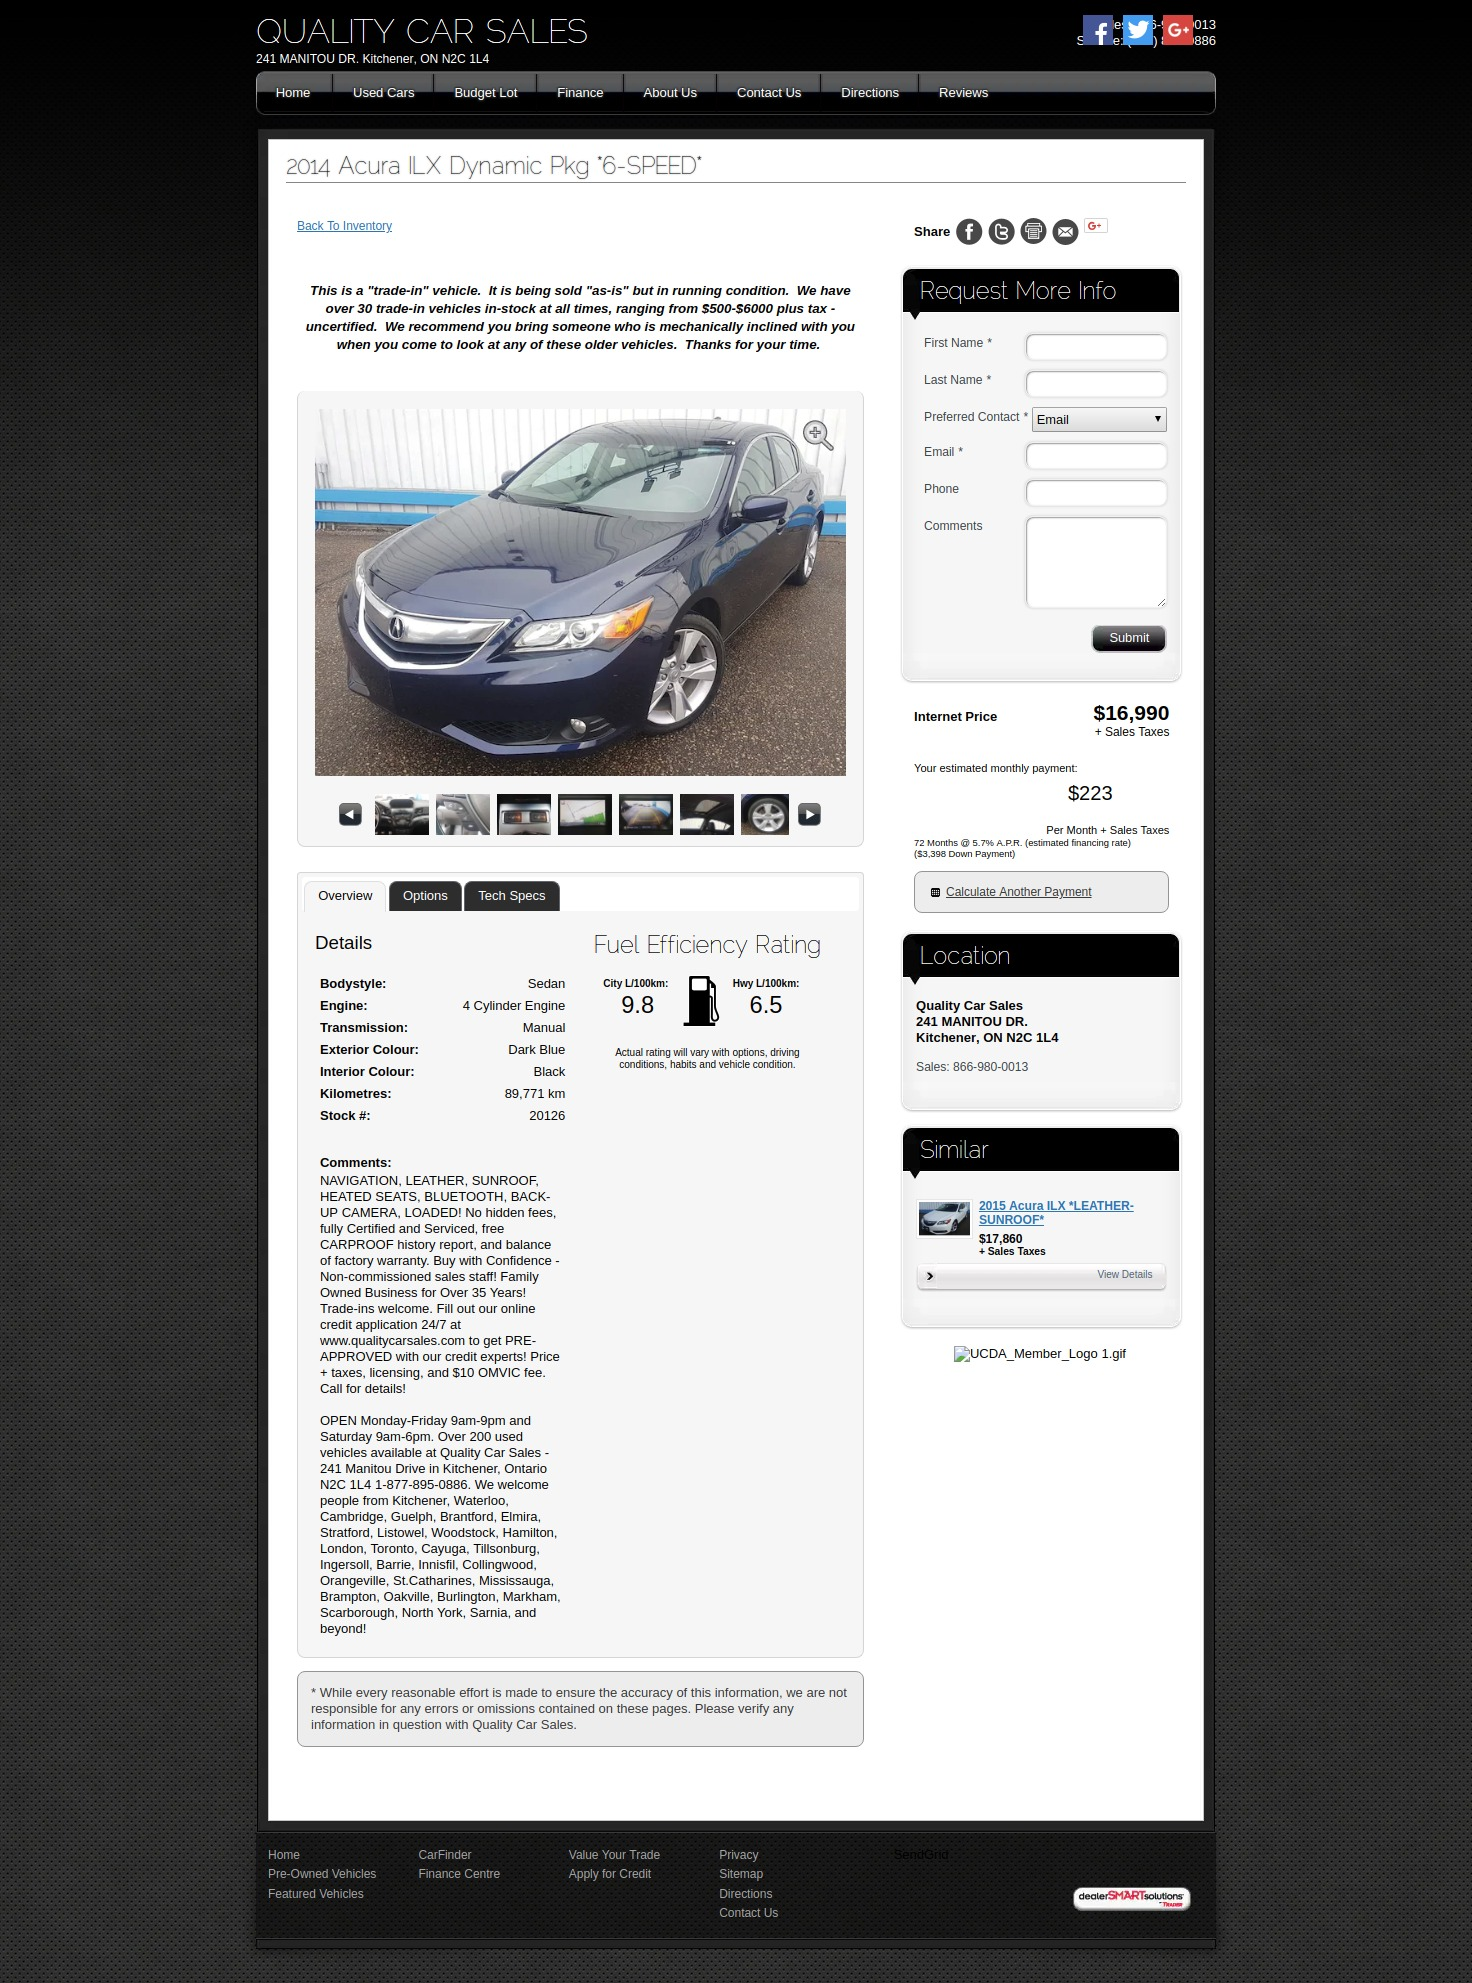car: (806, 810, 816, 821)
